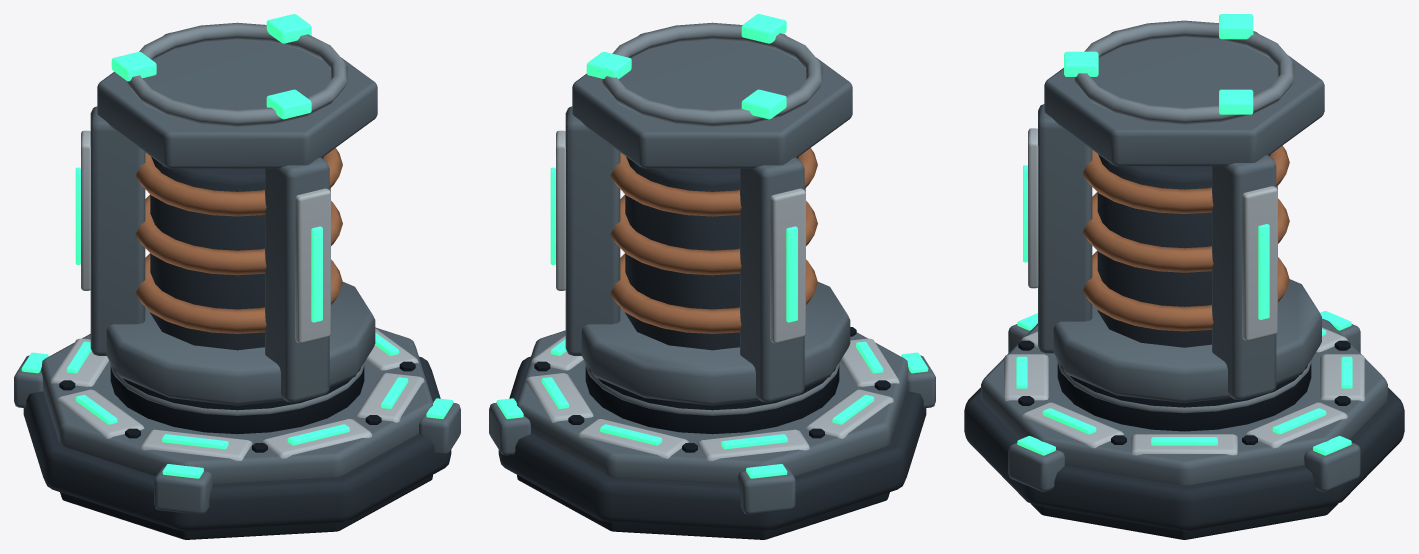
Rendered from charge_forge.fbx.
The picture shows the model from 3 angles, left to right: view 1: azimuth 30°, elevation 25°; view 2: azimuth 150°, elevation 25°; view 3: azimuth 270°, elevation 25°; orthographic projection.
Visible parts, largest first — view 1: charge_forge_Geometry, Base_Geometry, ChargeRotor_Geometry, Apex_sector_0_Geometry, Apex_sector_3_Geometry, Apex_sector_1_Geometry, Tier2_Light_01_Geometry; view 2: charge_forge_Geometry, Base_Geometry, ChargeRotor_Geometry, Apex_sector_1_Geometry, Apex_sector_2_Geometry, Apex_sector_0_Geometry, Tier3_Light_03_Geometry; view 3: charge_forge_Geometry, Base_Geometry, ChargeRotor_Geometry, Apex_sector_2_Geometry, Apex_sector_3_Geometry, Apex_sector_1_Geometry, Tier3_Light_06_Geometry, Apex_sector_0_Geometry, Tier3_Light_05_Geometry, Tier2_Light_07_Geometry.
Boxes of the visible parts, box(x1,y1,x2,y2) form: charge_forge_Geometry: box(75, 32, 377, 405); Base_Geometry: box(23, 327, 451, 539); ChargeRotor_Geometry: box(111, 14, 347, 126); Apex_sector_0_Geometry: box(154, 464, 212, 514); Apex_sector_3_Geometry: box(419, 398, 460, 455); Apex_sector_1_Geometry: box(14, 352, 48, 408); Tier2_Light_01_Geometry: box(162, 434, 228, 449); charge_forge_Geometry: box(550, 32, 852, 405); Base_Geometry: box(498, 327, 926, 539); ChargeRotor_Geometry: box(586, 14, 822, 126); Apex_sector_1_Geometry: box(737, 464, 795, 514); Apex_sector_2_Geometry: box(489, 398, 530, 455); Apex_sector_0_Geometry: box(901, 352, 935, 408); Tier3_Light_03_Geometry: box(721, 434, 787, 449); charge_forge_Geometry: box(1023, 30, 1324, 402); Base_Geometry: box(964, 318, 1404, 539); ChargeRotor_Geometry: box(1064, 14, 1294, 124); Apex_sector_2_Geometry: box(1304, 436, 1360, 491); Apex_sector_3_Geometry: box(1008, 436, 1064, 491); Apex_sector_1_Geometry: box(1320, 311, 1360, 352); Tier3_Light_06_Geometry: box(1151, 437, 1217, 445); Apex_sector_0_Geometry: box(1008, 313, 1037, 352); Tier3_Light_05_Geometry: box(1272, 408, 1326, 434); Tier2_Light_07_Geometry: box(1042, 408, 1096, 434).
Size of the model in its own units: 2.18 by 2.17 by 2.18.
